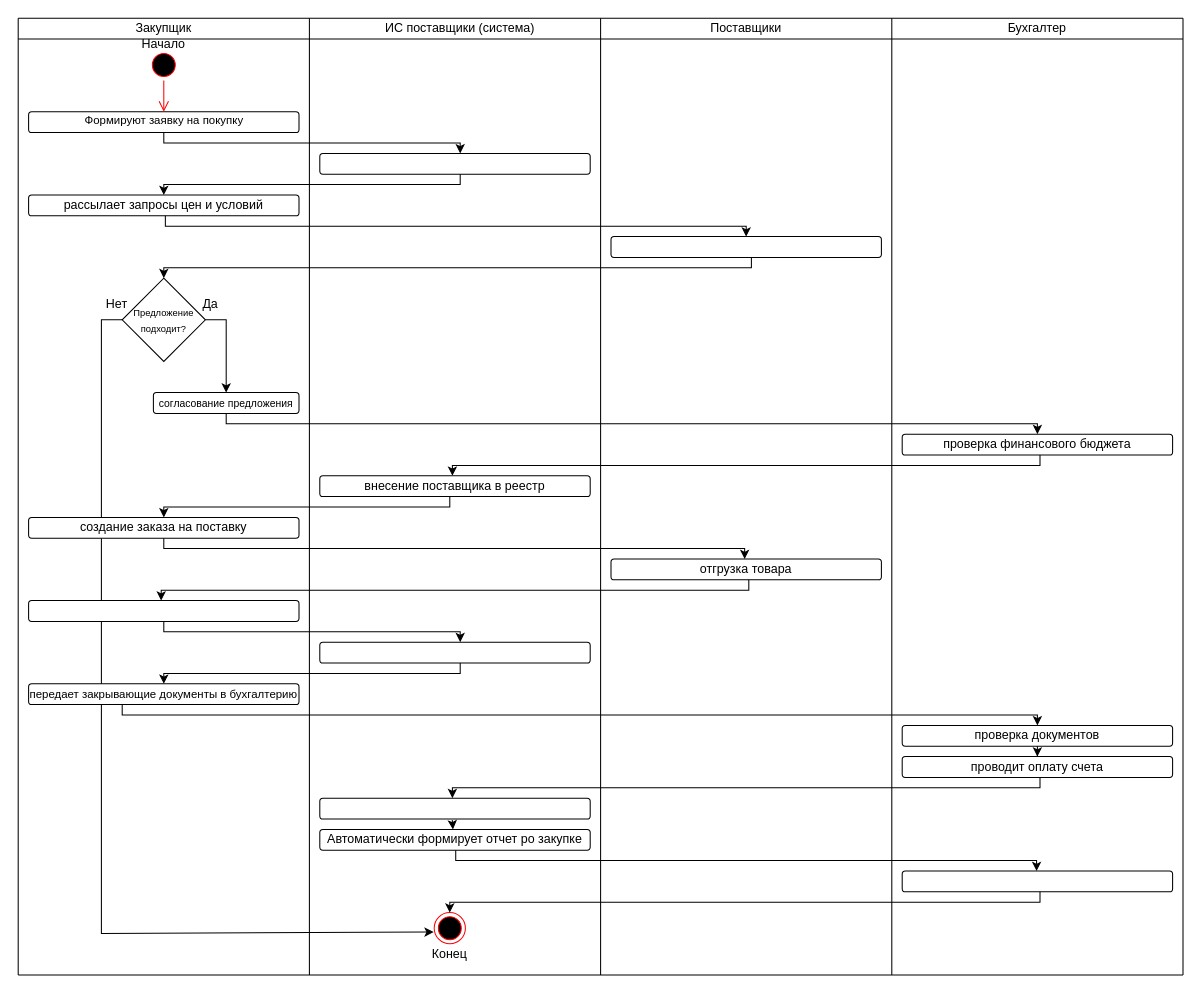
Image size: 1202x994. Some labels were removed from this diagram. Here are the shapes that lost their labels. From the top down, the centre of each, then its label:
pixel 454 163: автоматически регистрирует заявку
pixel 745 246: присылает комерческое предложение
pixel 163 610: приёмка товаров и сверка с заказом
pixel 454 652: автоматически приходует товары на склад
pixel 454 808: смена статуса на "Оплачено"
pixel 1037 881: формирование итоговой финансовой отчетнотсти
